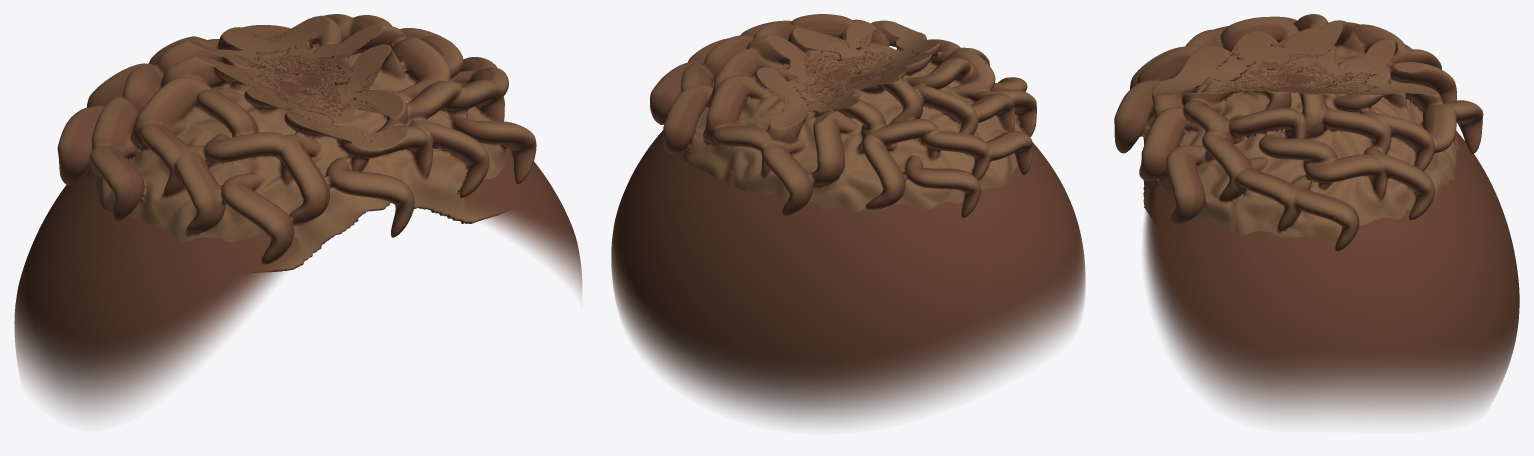
The model's file is Highlights-28e74ff87962252-hair.glb.
3 renders of one model, left to right at view 1: azimuth 30°, elevation 25°; view 2: azimuth 150°, elevation 25°; view 3: azimuth 270°, elevation 25°, orthographic. The views are drawn at different scales.
Parts seen in each view (by area): view 1: 226 hair / Hair252 / sculpted curl groups.001, 226 hair / Hair252 / curly close fade coverage.001; view 2: 226 hair / Hair252 / curly close fade coverage.001, 226 hair / Hair252 / sculpted curl groups.001; view 3: 226 hair / Hair252 / curly close fade coverage.001, 226 hair / Hair252 / sculpted curl groups.001.
Part boxes in pixels (box(x1,y1,x2,y2)): 226 hair / Hair252 / sculpted curl groups.001: box(57, 14, 536, 272); 226 hair / Hair252 / curly close fade coverage.001: box(14, 68, 581, 416); 226 hair / Hair252 / curly close fade coverage.001: box(611, 62, 1085, 424); 226 hair / Hair252 / sculpted curl groups.001: box(650, 14, 1036, 217); 226 hair / Hair252 / curly close fade coverage.001: box(1143, 73, 1519, 419); 226 hair / Hair252 / sculpted curl groups.001: box(1114, 14, 1483, 251).
Size of the model in its own units: 0.976 by 0.6999 by 0.762.
Materials: 2 (2 with a texture image).
